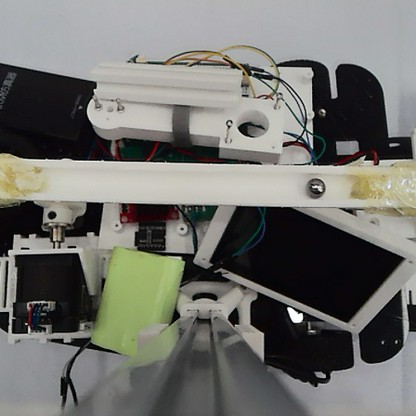ironball: (302, 175, 325, 200)
